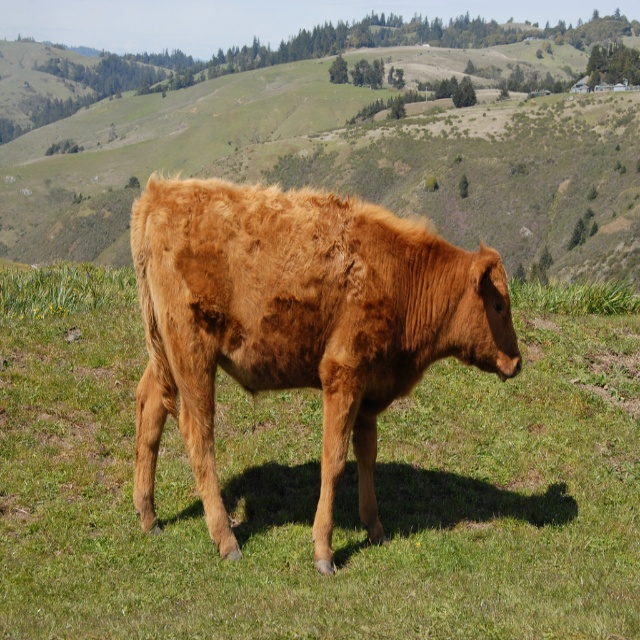Cattle: (129, 169, 522, 579)
